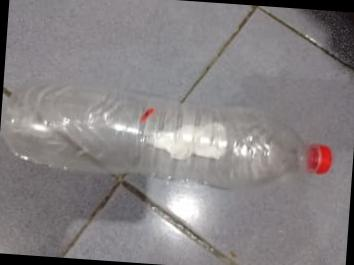Plastik: (0, 86, 302, 188)
